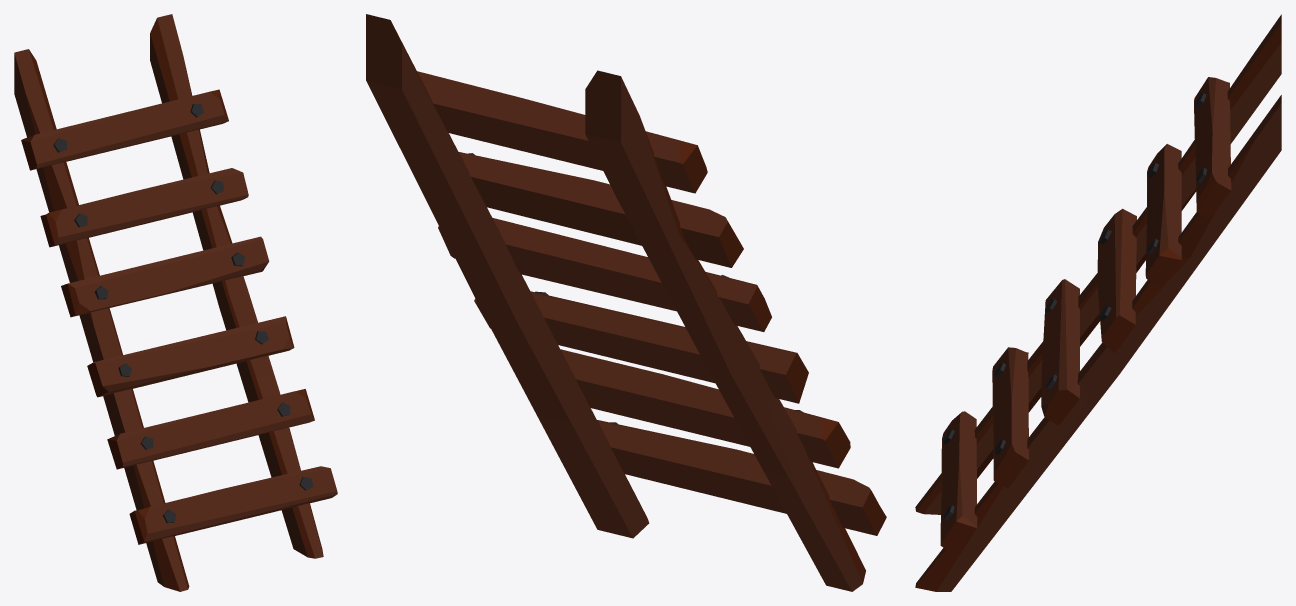
File: Ladder.fbx
3 views of the same model, side by side, from view 1: azimuth 30°, elevation 25°; view 2: azimuth 150°, elevation 25°; view 3: azimuth 270°, elevation 25° (orthographic). The views are drawn at different scales.
Visible parts, largest first — view 1: Ladder; view 2: Ladder; view 3: Ladder.
Part boxes in pixels (<box>): Ladder: <box>14,14,337,591</box>; Ladder: <box>366,14,886,591</box>; Ladder: <box>915,14,1281,591</box>.
Size of the model in its own units: 28.41 by 58.7 by 39.84.
